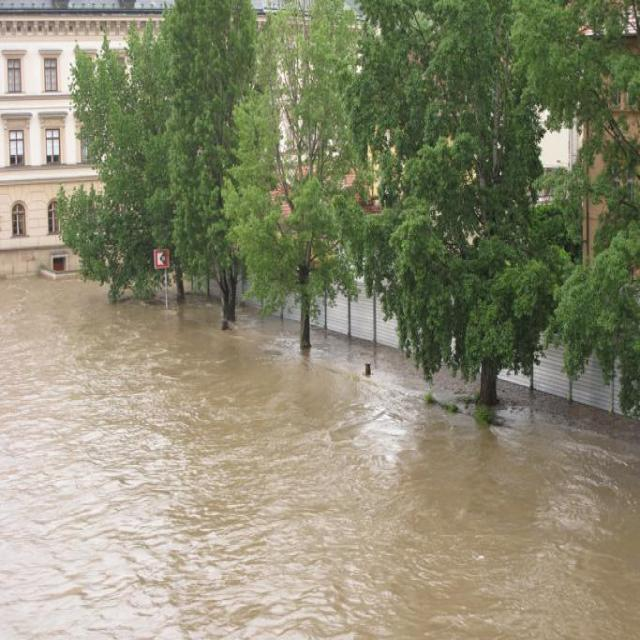flood: (1, 257, 640, 640)
